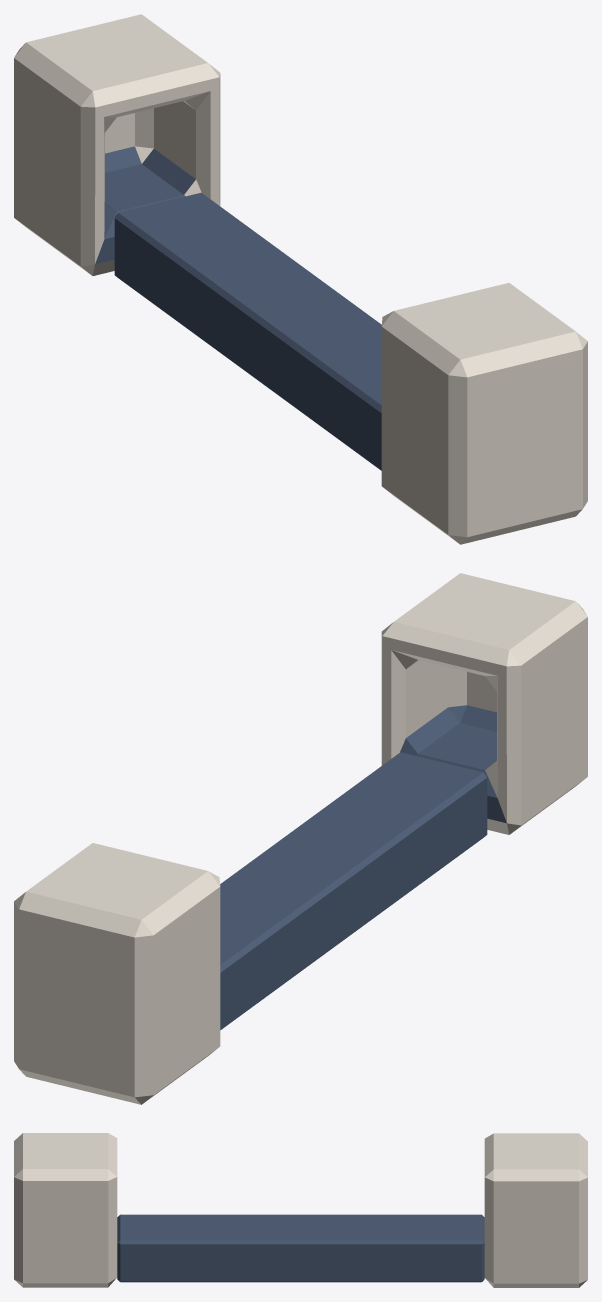
File: SushiBelt.fbx
3 renders of one model, top to bottom at view 1: azimuth 30°, elevation 25°; view 2: azimuth 150°, elevation 25°; view 3: azimuth 270°, elevation 25°, orthographic. The views are drawn at different scales.
Visible parts, largest first — view 1: OrderConveyorLeft, OrderConveyorRight, Belt; view 2: OrderConveyorRight, OrderConveyorLeft, Belt; view 3: Belt, OrderConveyorLeft, OrderConveyorRight.
Boxes of the visible parts, box(x1,y1,x2,y2) form: OrderConveyorLeft: box(381, 283, 587, 544); OrderConveyorRight: box(14, 14, 220, 275); Belt: box(114, 192, 381, 470); OrderConveyorRight: box(14, 843, 220, 1104); OrderConveyorLeft: box(381, 573, 587, 834); Belt: box(220, 752, 487, 1029); Belt: box(117, 1214, 484, 1282); OrderConveyorLeft: box(14, 1133, 117, 1287); OrderConveyorRight: box(484, 1133, 587, 1287).
Size of the model in its own units: 70.29 by 89.35 by 391.
